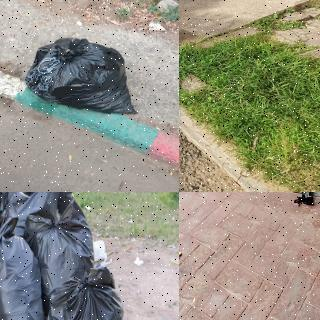Garbage: (19, 34, 145, 119), (26, 208, 98, 301), (0, 218, 50, 320), (42, 267, 127, 320), (0, 192, 81, 236), (293, 192, 319, 208)
